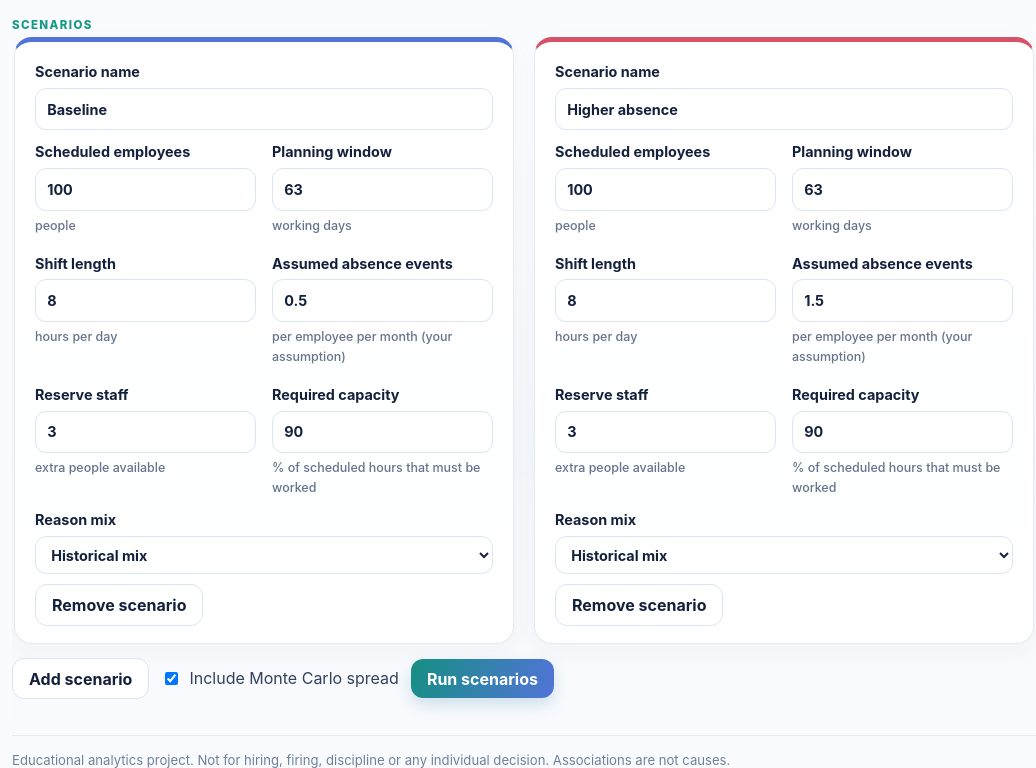
Planning page › shows server errors
(page scrolled)
Click the button "Run scenarios" at (482, 679), box [411, 659, 554, 698]
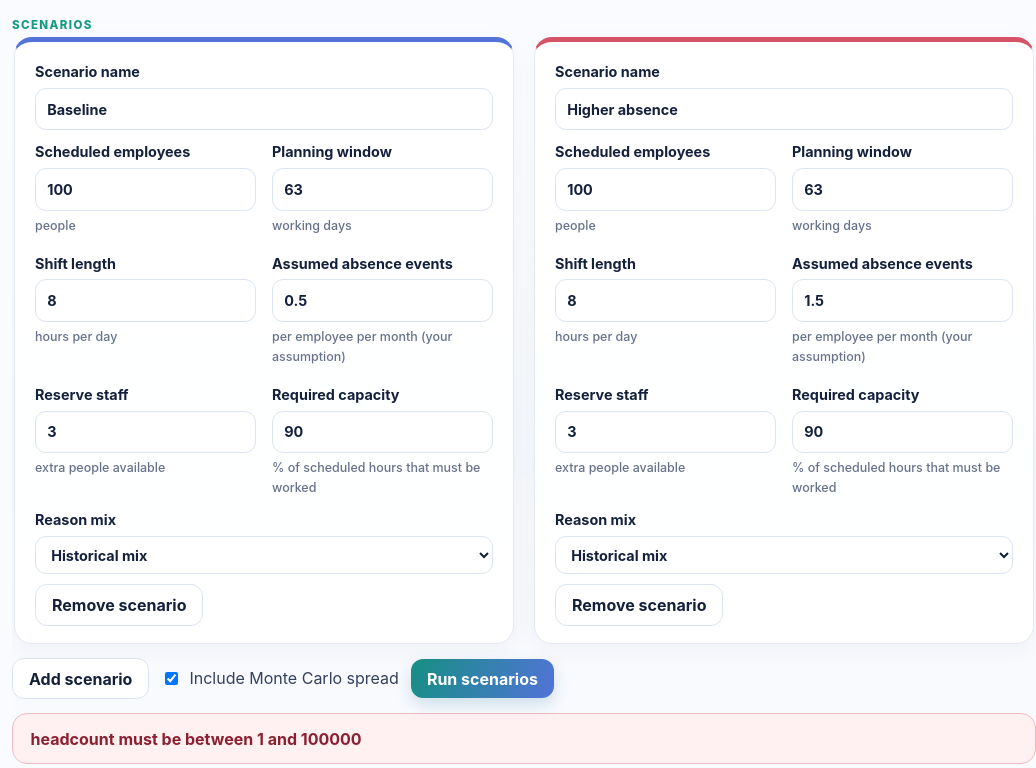
Expected: the text "headcount must be between 1 and 100000" is shown, [31, 729, 362, 749]
